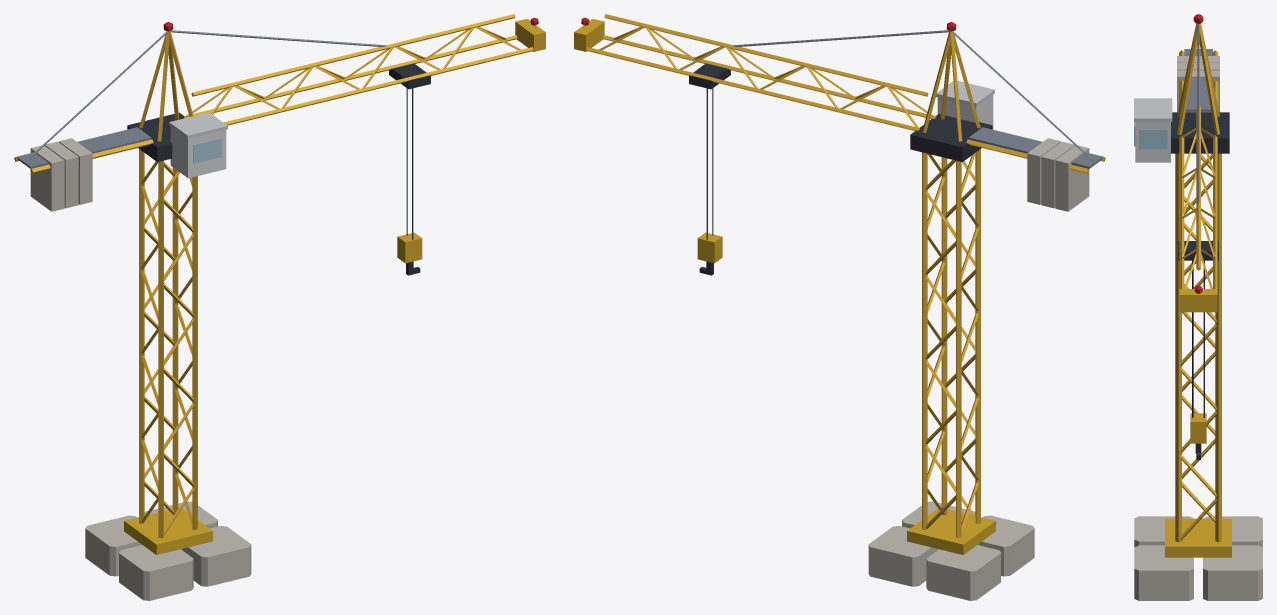
The model's file is site_crane.glb.
The picture shows the model from 3 angles, left to right: view 1: azimuth 30°, elevation 25°; view 2: azimuth 150°, elevation 25°; view 3: azimuth 270°, elevation 25°; orthographic projection. The views are drawn at different scales.
Visible parts, largest first — view 1: base, jib, hook; view 2: base, jib, hook; view 3: base, jib, hook.
Part boxes in pixels (x1,y1,x2,y2): base: (85,149,251,600); jib: (14,14,545,211); hook: (389,63,430,275); base: (868,149,1034,600); jib: (574,14,1105,211); hook: (689,63,730,275); base: (1134,153,1262,600); jib: (1134,14,1229,312); hook: (1178,241,1218,459).
Size of the model in its own units: 12.79 by 12.92 by 2.7.
